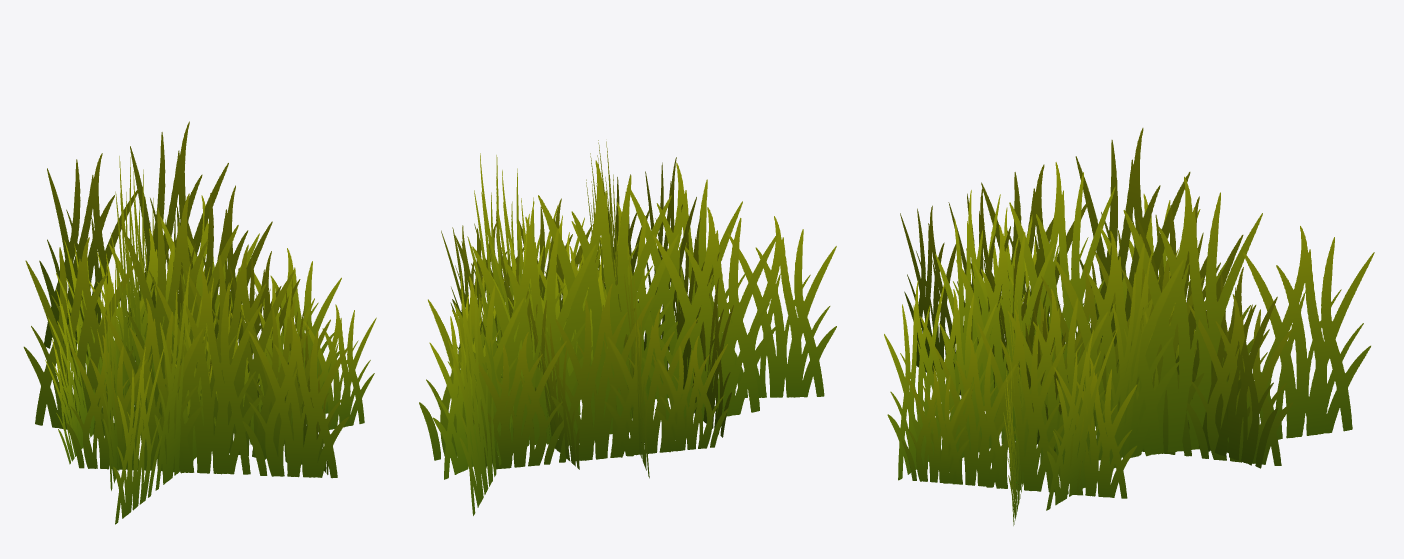
Rendered from low_grass_13.gltf.
The picture shows the model from 3 angles, left to right: view 1: azimuth 30°, elevation 25°; view 2: azimuth 150°, elevation 25°; view 3: azimuth 270°, elevation 25°; orthographic projection. The views are drawn at different scales.
Visible parts, largest first — view 1: default; view 2: default; view 3: default.
Part boxes in pixels (x1,y1,x2,y2): default: (23,121,376,524); default: (419,140,836,515); default: (884,128,1374,525).
Bounding box in the file's own units: 0.8227 × 0.8109 × 1.04.
Materials: 1 (1 with a texture image).
